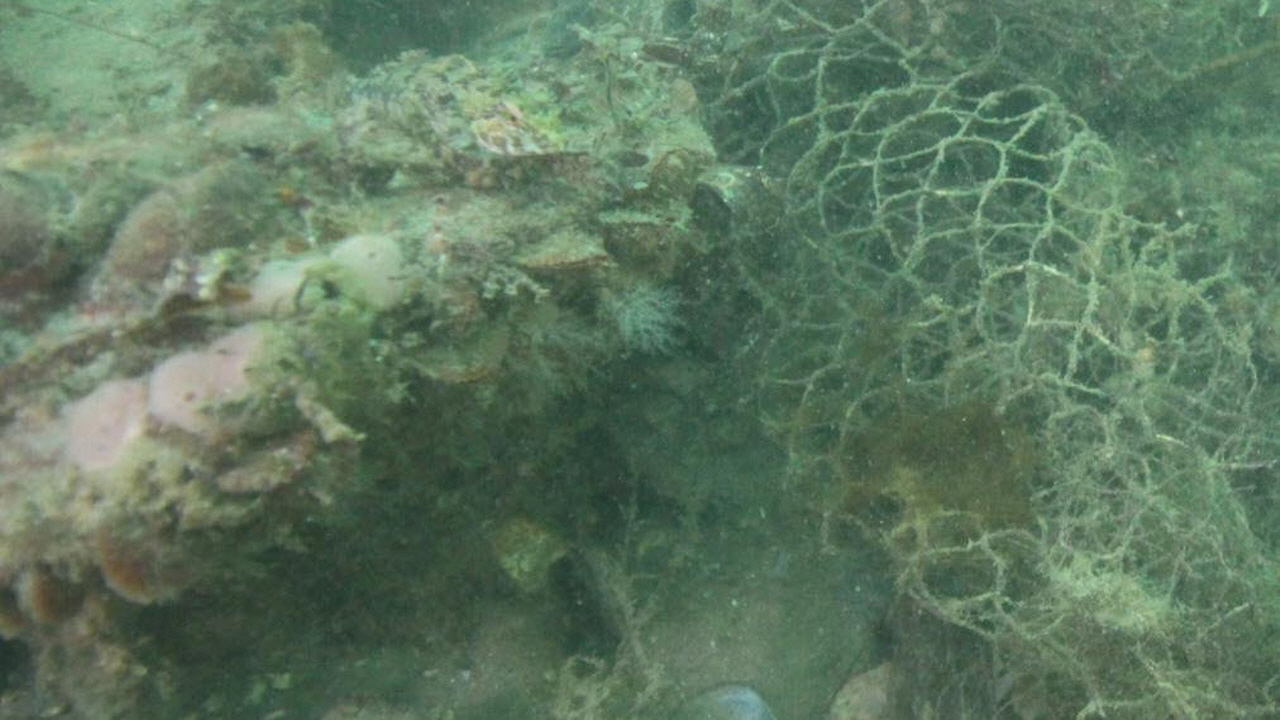fish net: (694, 2, 1280, 720)
